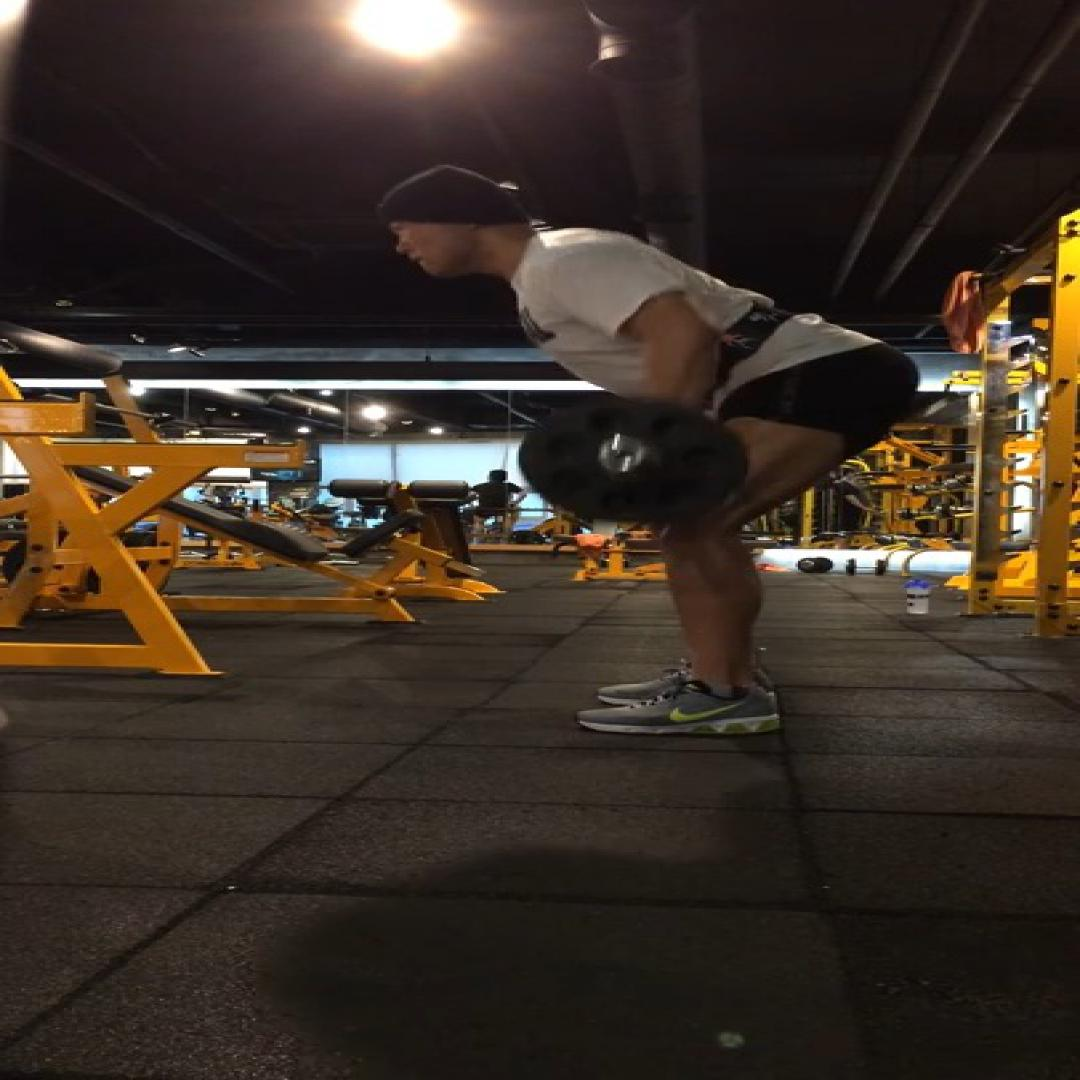Bar: (598, 436, 646, 472)
Barbell: (518, 399, 748, 521)
